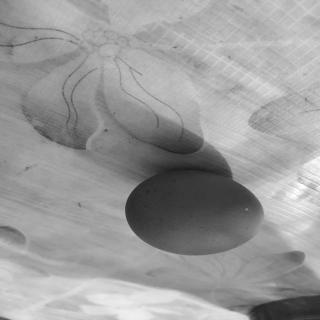Telur: (124, 165, 268, 259)
